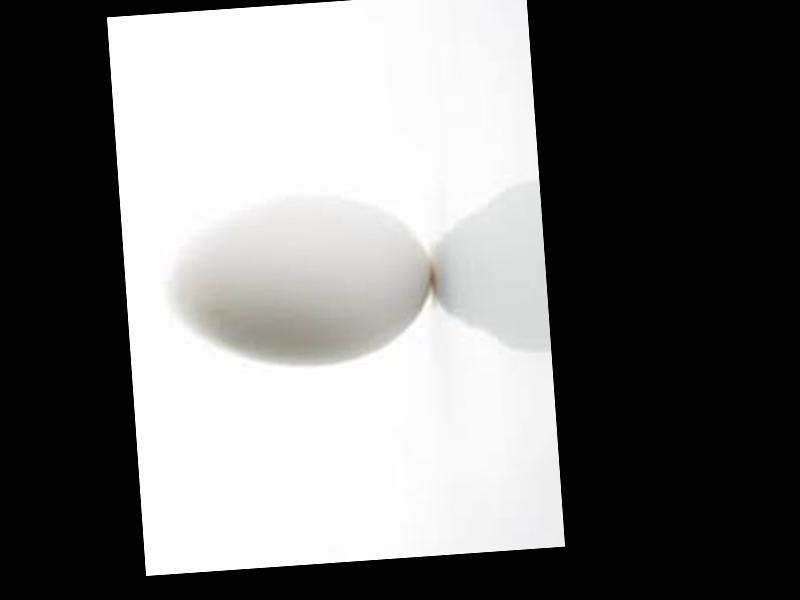Eggs: (162, 192, 437, 375)
